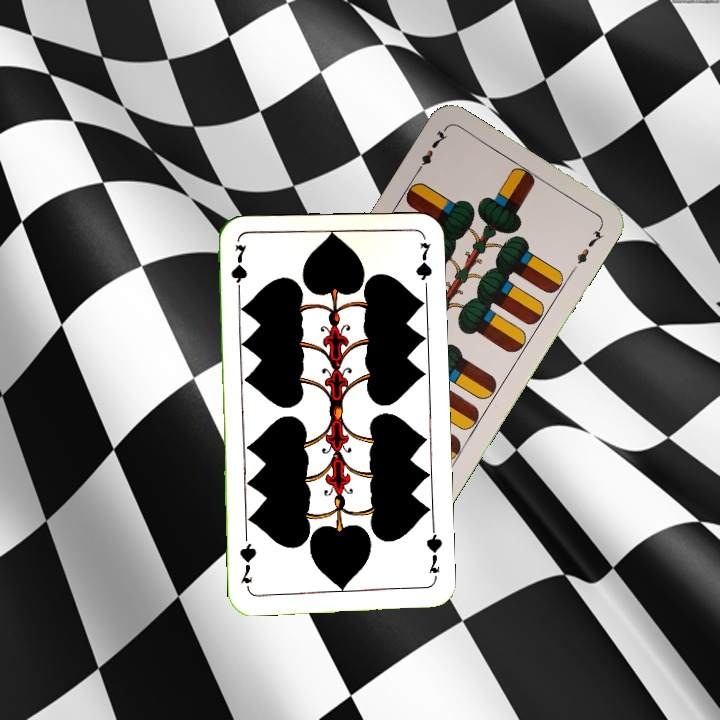E7: (410, 126, 450, 178)
G7: (227, 240, 250, 300), (422, 524, 445, 583)
